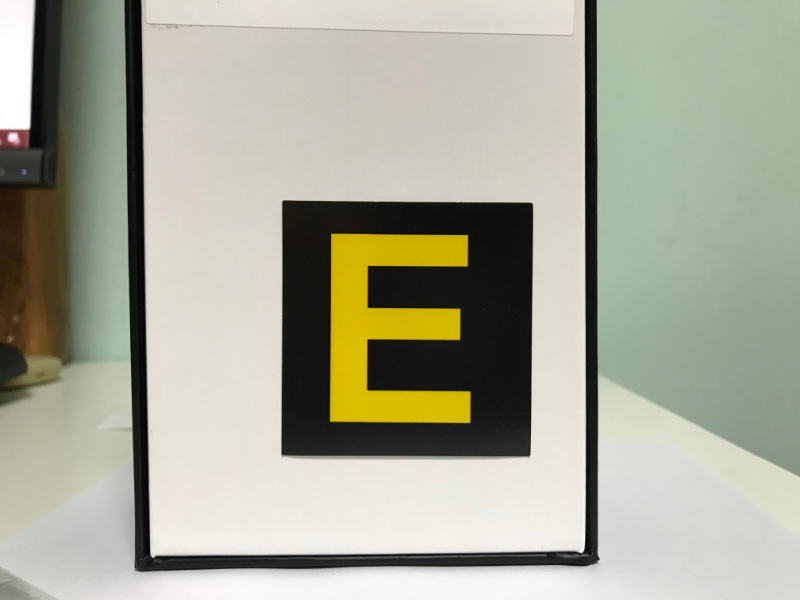E-15: (284, 203, 529, 456)
